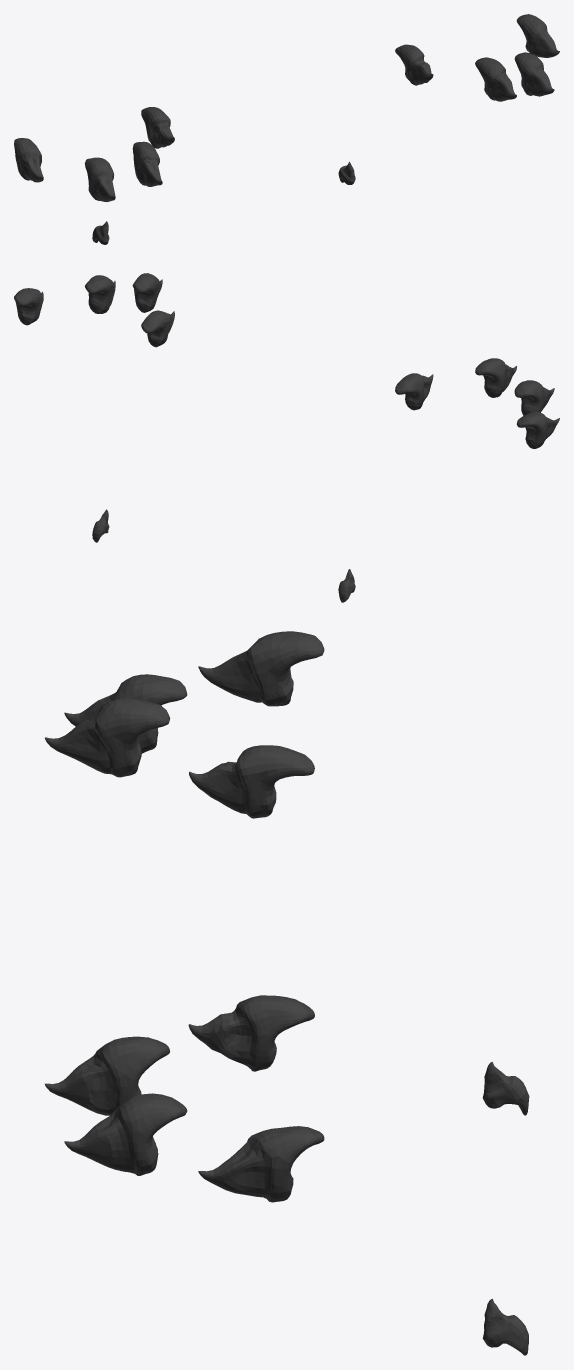
3 views of the same model, one above another, from view 1: azimuth 30°, elevation 25°; view 2: azimuth 150°, elevation 25°; view 3: azimuth 270°, elevation 25° (orthographic). The views are drawn at different scales.
Parts seen in each view (by area): view 1: FL_P3_1; view 2: FL_P3_1; view 3: FL_P3_1.
Part boxes in pixels (box(x1,y1,x2,y2)): FL_P3_1: box(14, 14, 559, 244); FL_P3_1: box(14, 273, 559, 602); FL_P3_1: box(45, 631, 529, 1355).
Size of the model in its own units: 0.00468 by 0.00154 by 0.00186.
Materials: 1 (1 with a texture image).
